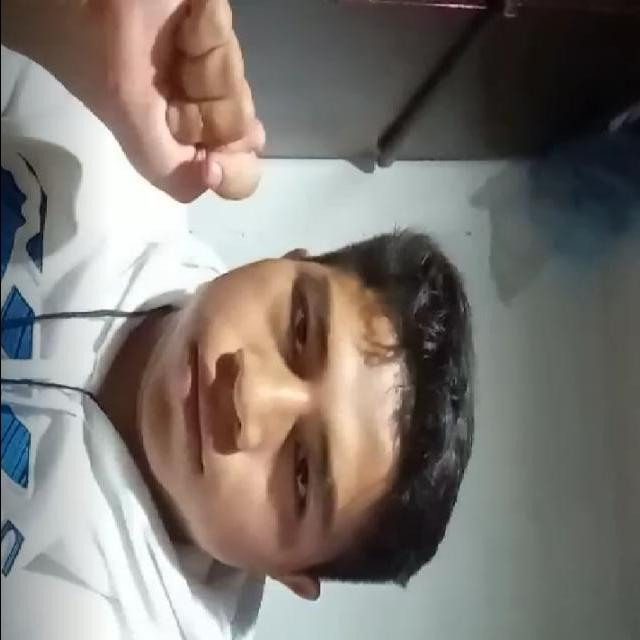T: (40, 0, 297, 203)
